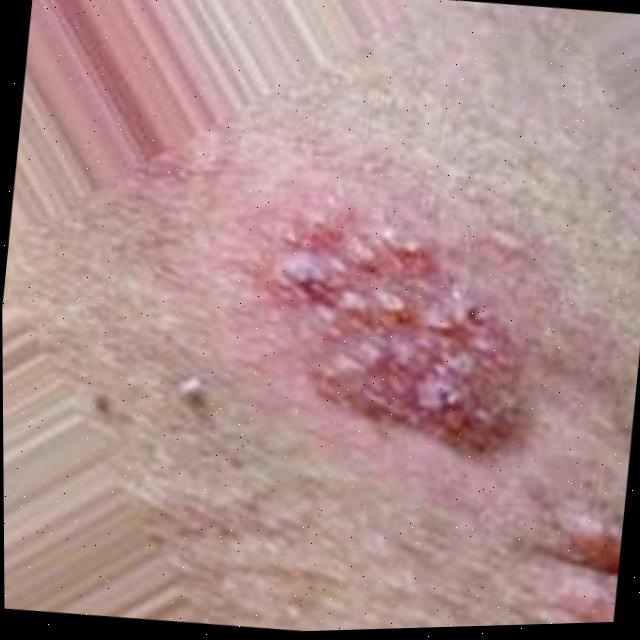Shingles: (261, 211, 540, 459)
